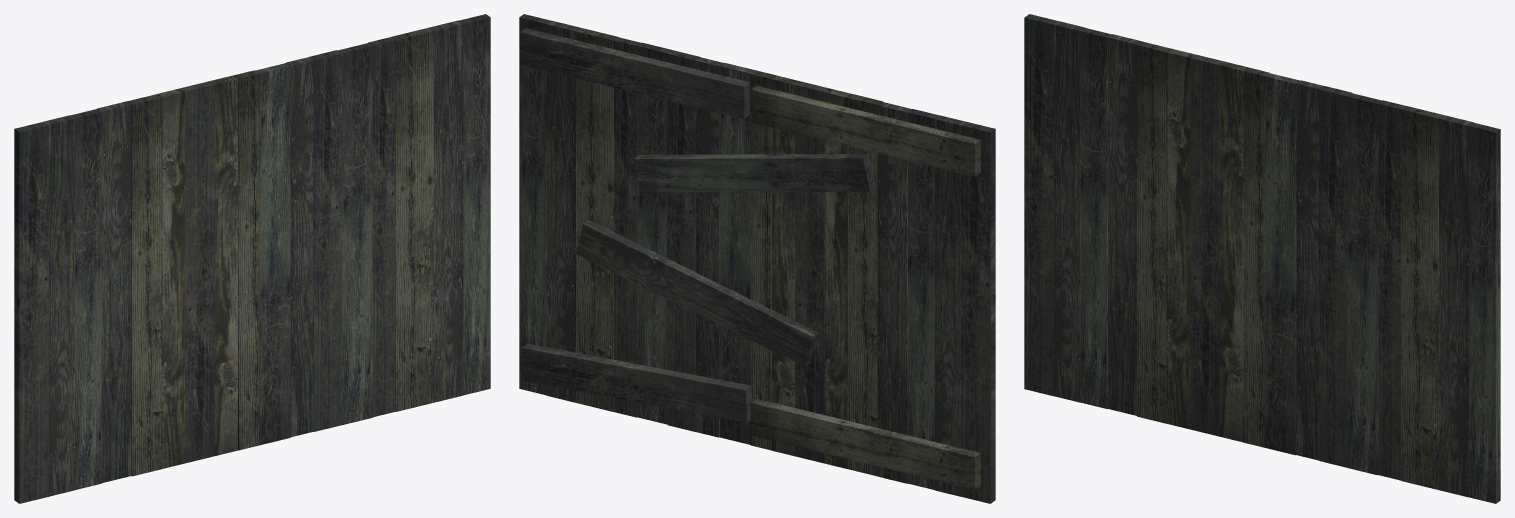
The model's file is OldSmallWoodenWall 4m.fbx.
The picture shows the model from 3 angles, left to right: view 1: azimuth 30°, elevation 25°; view 2: azimuth 150°, elevation 25°; view 3: azimuth 330°, elevation 25°; orthographic projection.
Parts seen in each view (by area): view 1: OldSmallWoodenWall_4m; view 2: OldSmallWoodenWall_4m; view 3: OldSmallWoodenWall_4m.
Part boxes in pixels (left/top/right/bottom): OldSmallWoodenWall_4m: left=14, top=14, right=490, bottom=503; OldSmallWoodenWall_4m: left=519, top=14, right=995, bottom=503; OldSmallWoodenWall_4m: left=1024, top=14, right=1500, bottom=503.
Size of the model in its own units: 4 by 3.01 by 0.1628.
